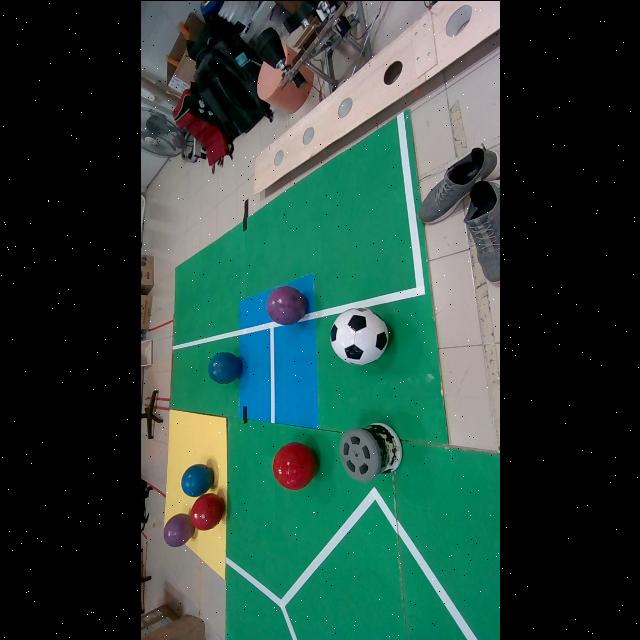B: (207, 351, 241, 383), (181, 463, 212, 496)
P: (265, 285, 307, 325), (164, 512, 193, 546)
R: (272, 441, 317, 489), (190, 492, 224, 529)
